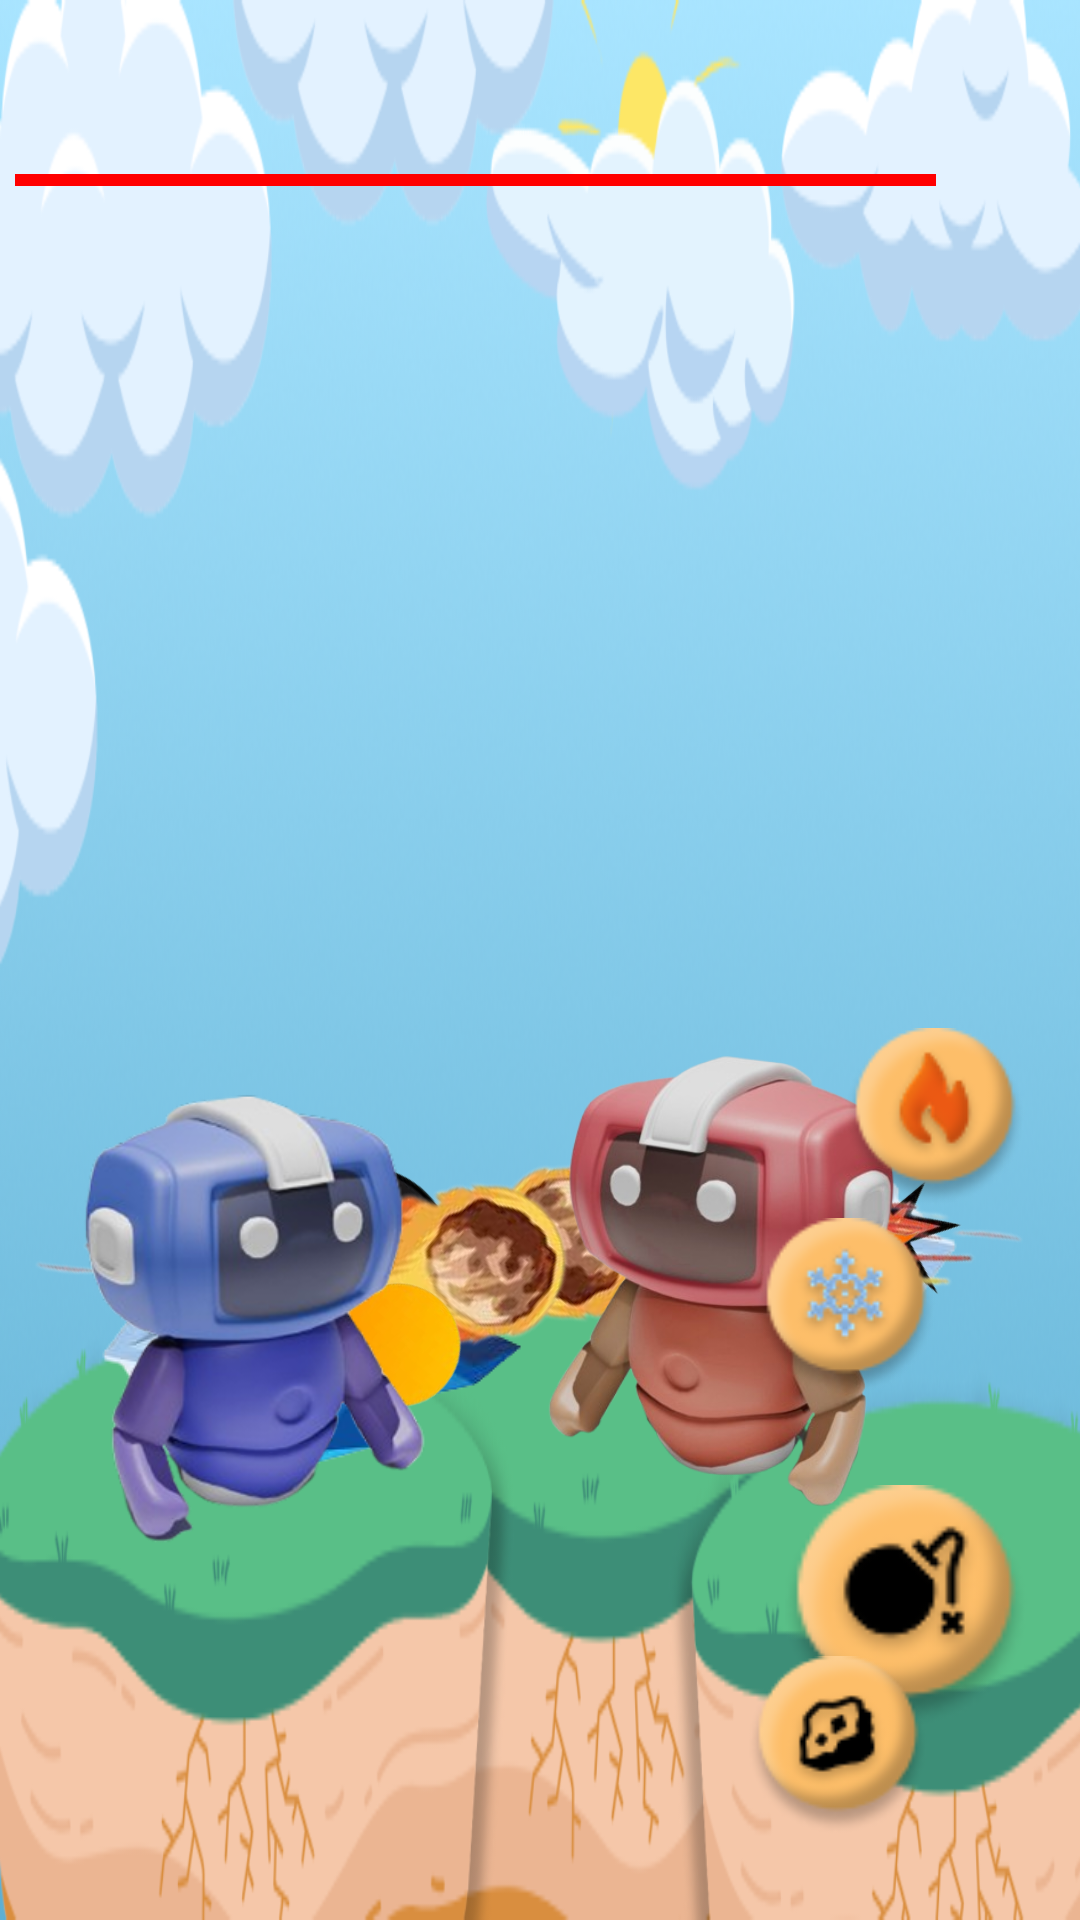

Icon click points for this 1080×1920 phone screenshot, format point (x, y):
rock: point (839, 1746)
